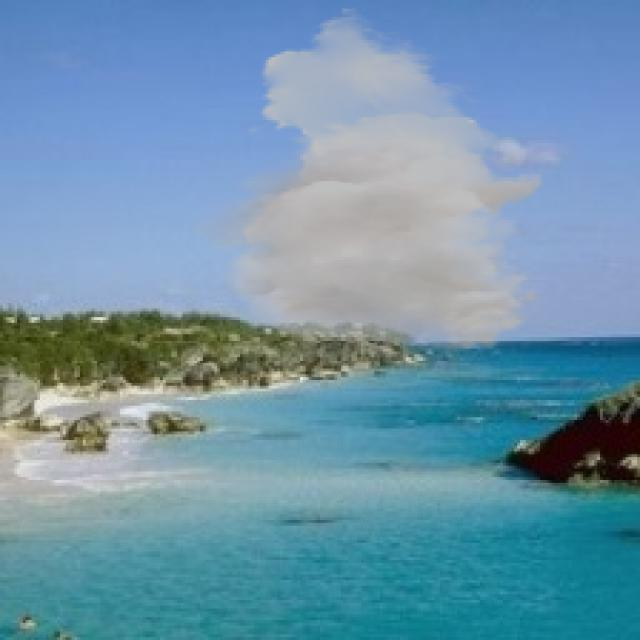smoke: (183, 6, 546, 351)
